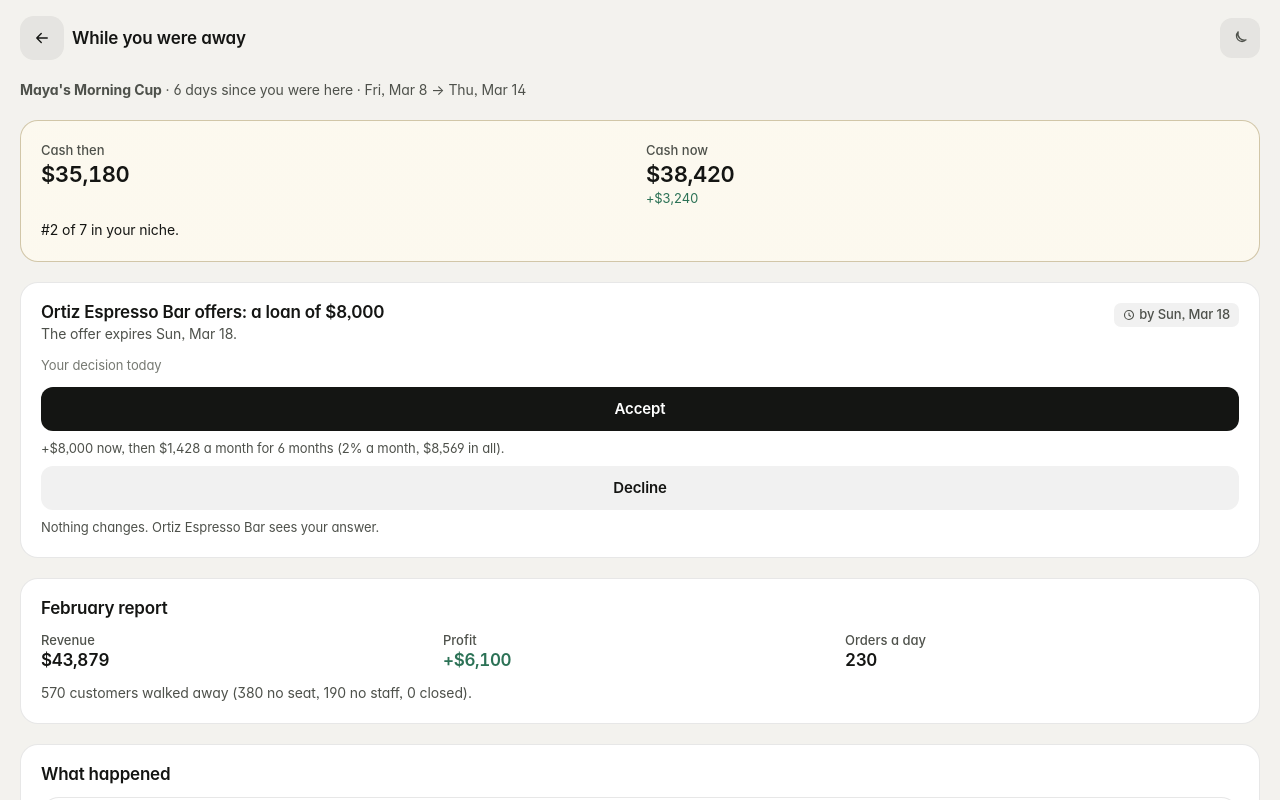
Test case: /brief on screen › a refused action keeps the choice open and says why
Step 1. Click the button "Accept" → (640, 409), box top-left (41, 387), bottom-right (1239, 431)
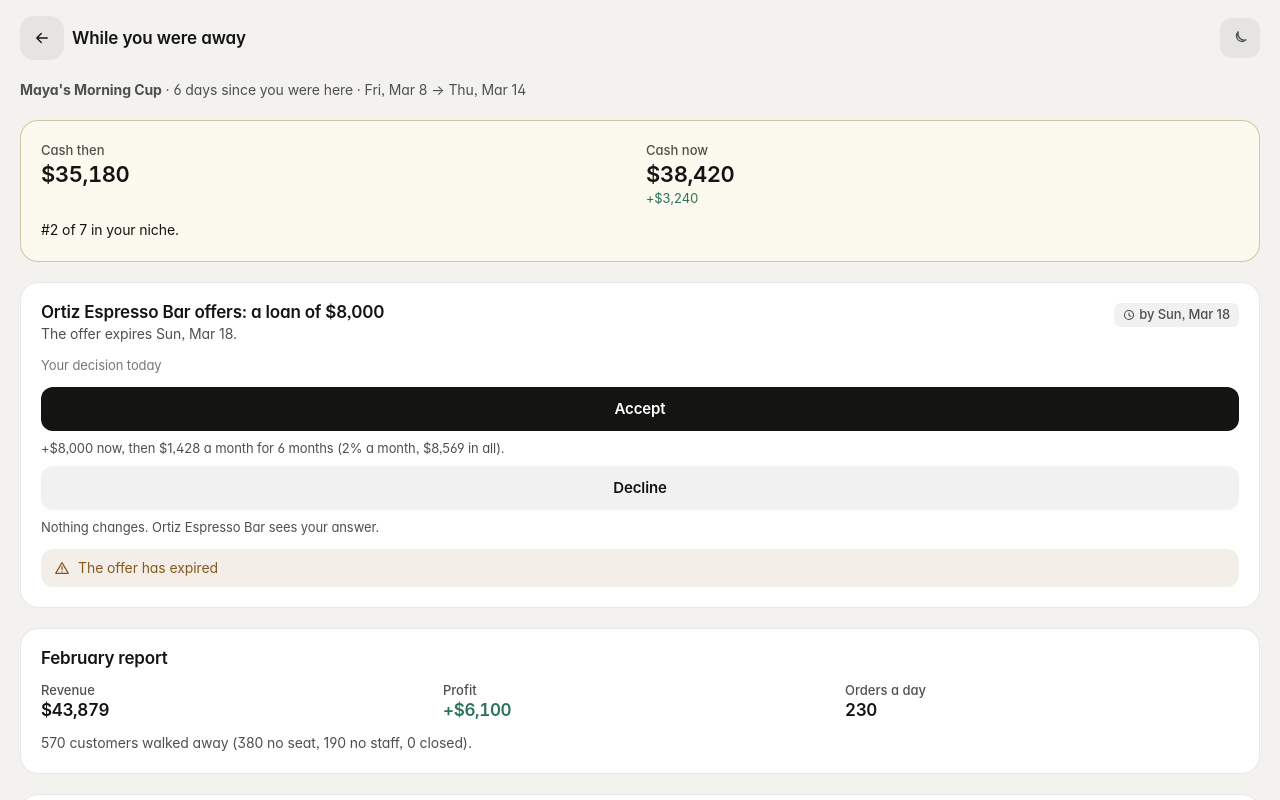
Expected: the button "Decline" is shown, top-left (41, 466), bottom-right (1239, 510)
Now the text "The offer has expired" is shown, box top-left (78, 558), bottom-right (218, 578)
